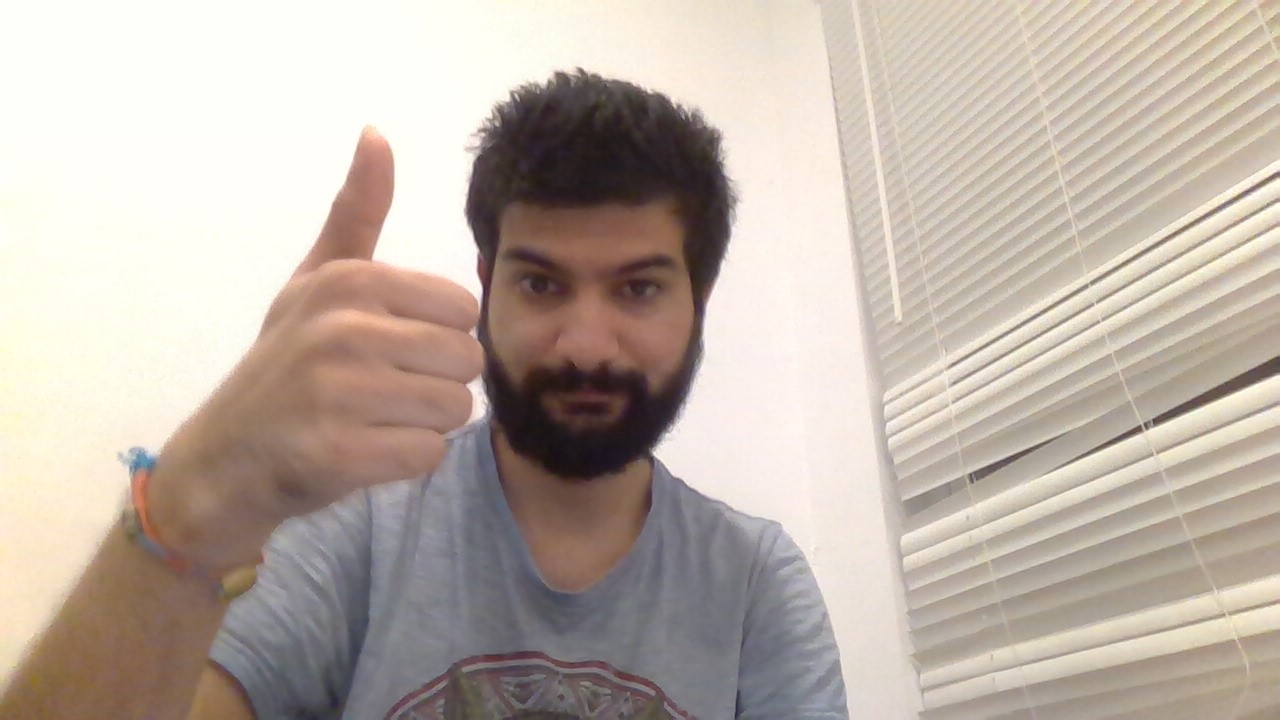up: (250, 116, 485, 487)
